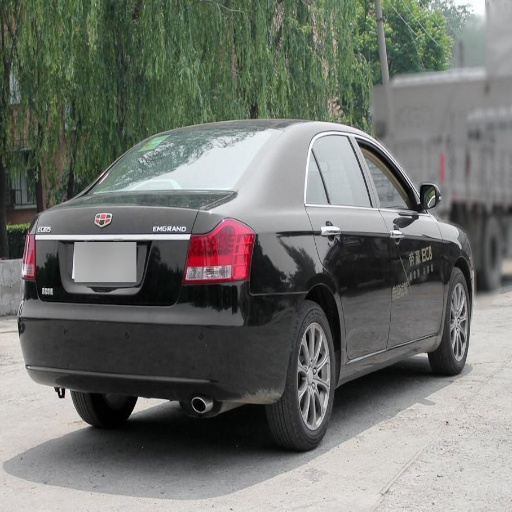back_bumper: (18, 281, 293, 405)
back_right_door: (305, 130, 389, 361)
tailgate: (34, 185, 223, 303)
trunk: (41, 298, 216, 363)
